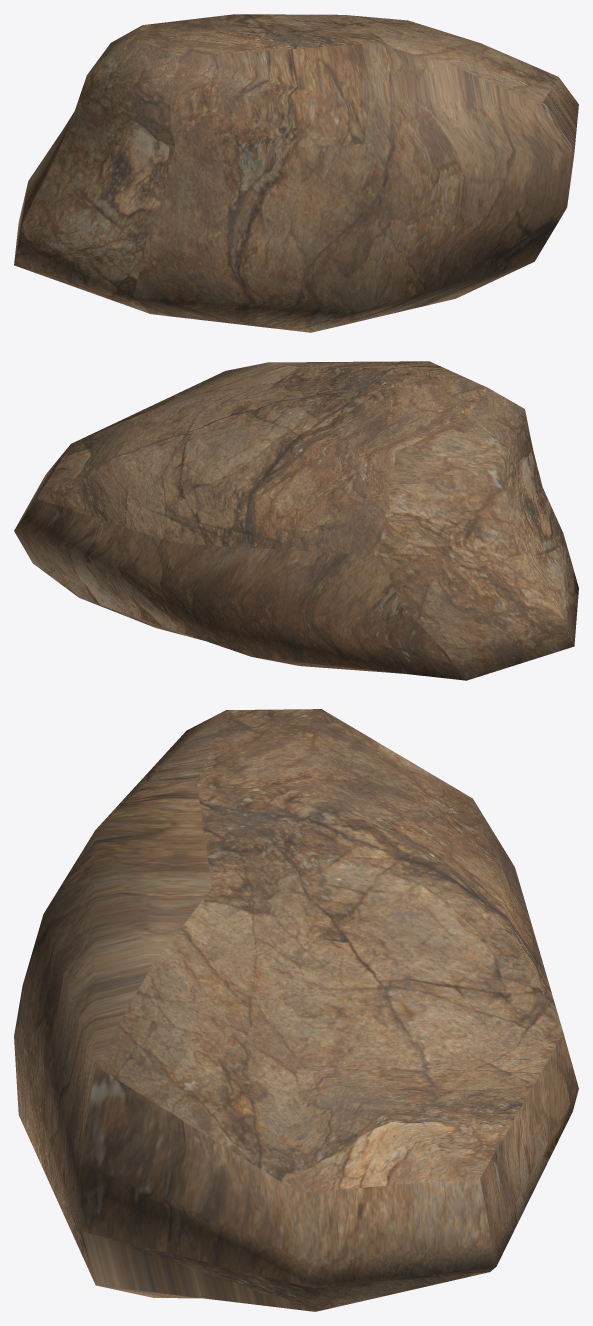
The model's file is Rock_2.fbx.
3 views of the same model, one above another, from view 1: azimuth 30°, elevation 25°; view 2: azimuth 150°, elevation 25°; view 3: azimuth 270°, elevation 25° (orthographic). The views are drawn at different scales.
Parts seen in each view (by area): view 1: rock_2; view 2: rock_2; view 3: rock_2.
Part boxes in pixels (x1,y1,x2,y2): rock_2: [14, 14, 578, 332]; rock_2: [14, 361, 578, 680]; rock_2: [14, 709, 578, 1311].
Bounding box in the file's own units: 48.87 × 24.03 × 29.91.
